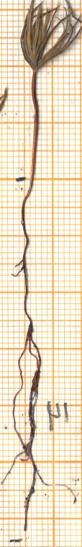flower: (12, 0, 82, 74)
root: (0, 191, 80, 546)
stem: (22, 75, 45, 191)
